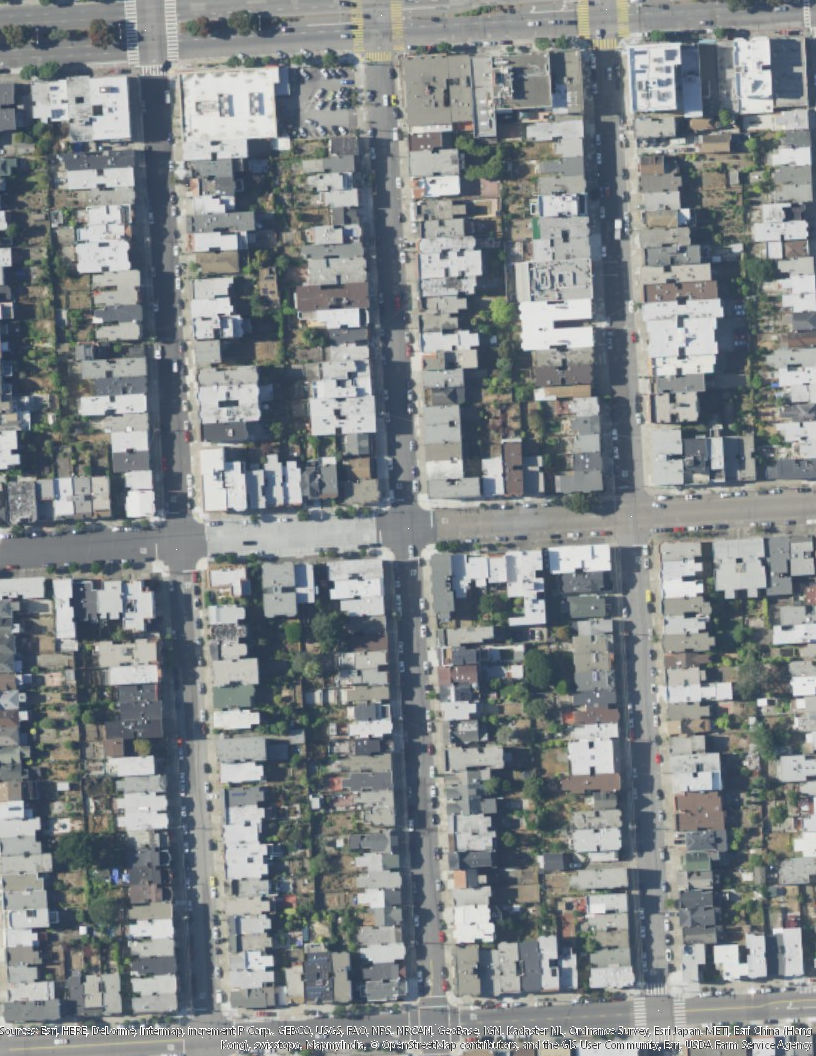zebracross: (163, 1, 183, 63), (124, 1, 142, 62), (388, 1, 407, 55), (348, 1, 365, 55), (575, 1, 591, 38), (138, 61, 171, 77), (616, 1, 631, 36), (672, 997, 688, 1028), (633, 996, 647, 1027), (365, 48, 392, 64), (595, 35, 619, 52), (646, 981, 667, 997)
